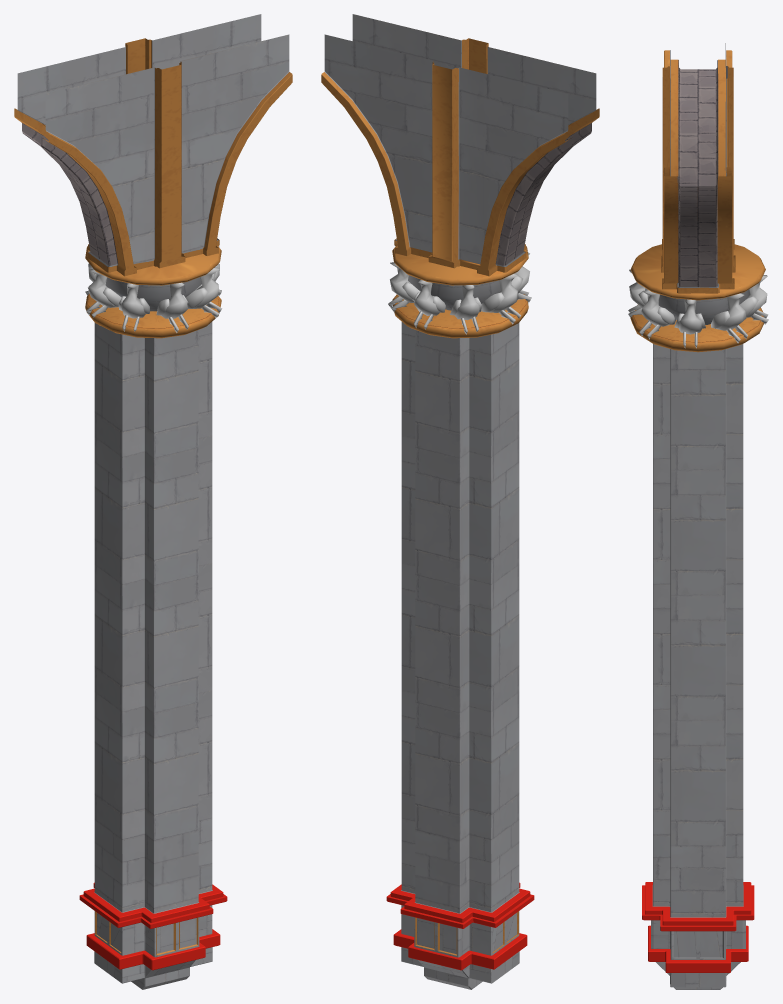
Rendered from SM_WallArchColumn_BallRoom.fbx.
3 renders of one model, left to right at view 1: azimuth 30°, elevation 25°; view 2: azimuth 150°, elevation 25°; view 3: azimuth 270°, elevation 25°, orthographic.
Parts seen in each view (by area): view 1: SM_WallArchColumn_BallRoom; view 2: SM_WallArchColumn_BallRoom; view 3: SM_WallArchColumn_BallRoom.
Part boxes in pixels (x1,y1,x2,y2): SM_WallArchColumn_BallRoom: (14,14,292,989); SM_WallArchColumn_BallRoom: (321,14,599,989); SM_WallArchColumn_BallRoom: (628,43,768,989).
Size of the model in its own units: 4 by 14.48 by 2.04.
